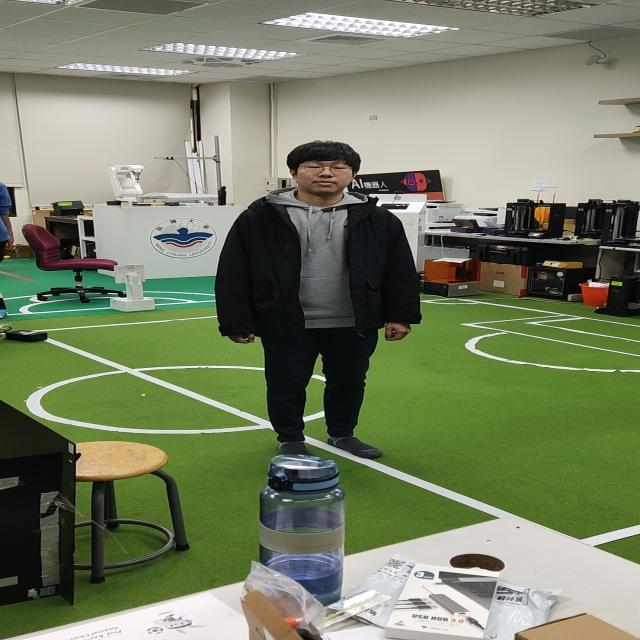person: (205, 132, 432, 452)
